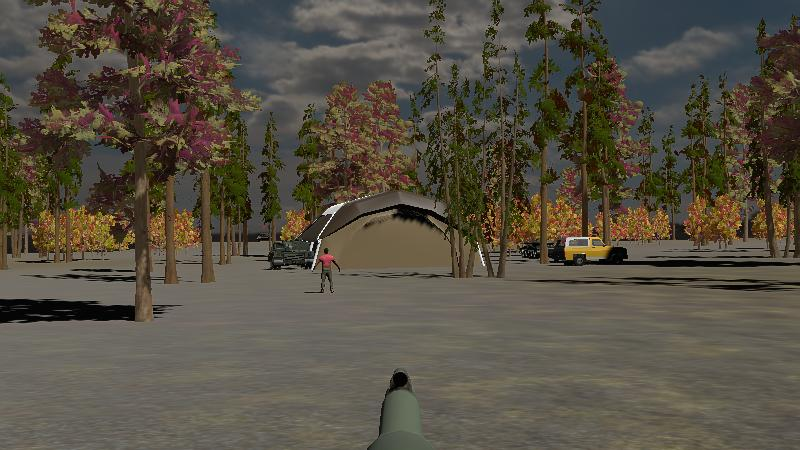Human: (311, 245, 344, 296)
Tank: (517, 237, 555, 260)
car: (553, 235, 630, 267)
